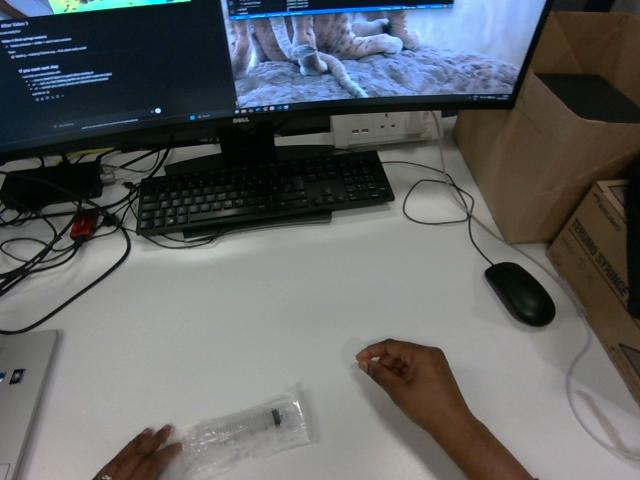syringe: (171, 393, 308, 479)
